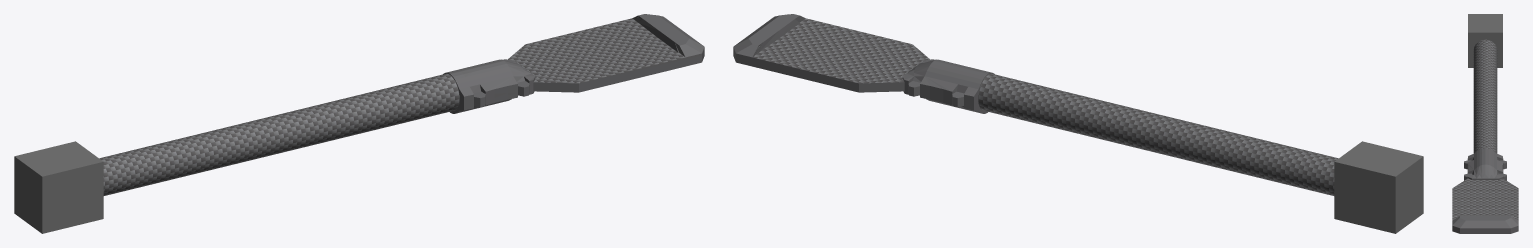
The model's file is tarot_t650_arm_black.dae.
3 views of the same model, side by side, from view 1: azimuth 30°, elevation 25°; view 2: azimuth 150°, elevation 25°; view 3: azimuth 270°, elevation 25° (orthographic). The views are drawn at different scales.
Visible parts, largest first — view 1: Cylinder017; view 2: Cylinder017; view 3: Cylinder017.
Boxes of the visible parts, bbox=[...] form: Cylinder017: bbox=[14, 14, 704, 233]; Cylinder017: bbox=[733, 14, 1423, 233]; Cylinder017: bbox=[1452, 14, 1518, 233].
Bounding box in the file's own units: 300 × 42.35 × 25.
Materials: 2 (2 with a texture image).
